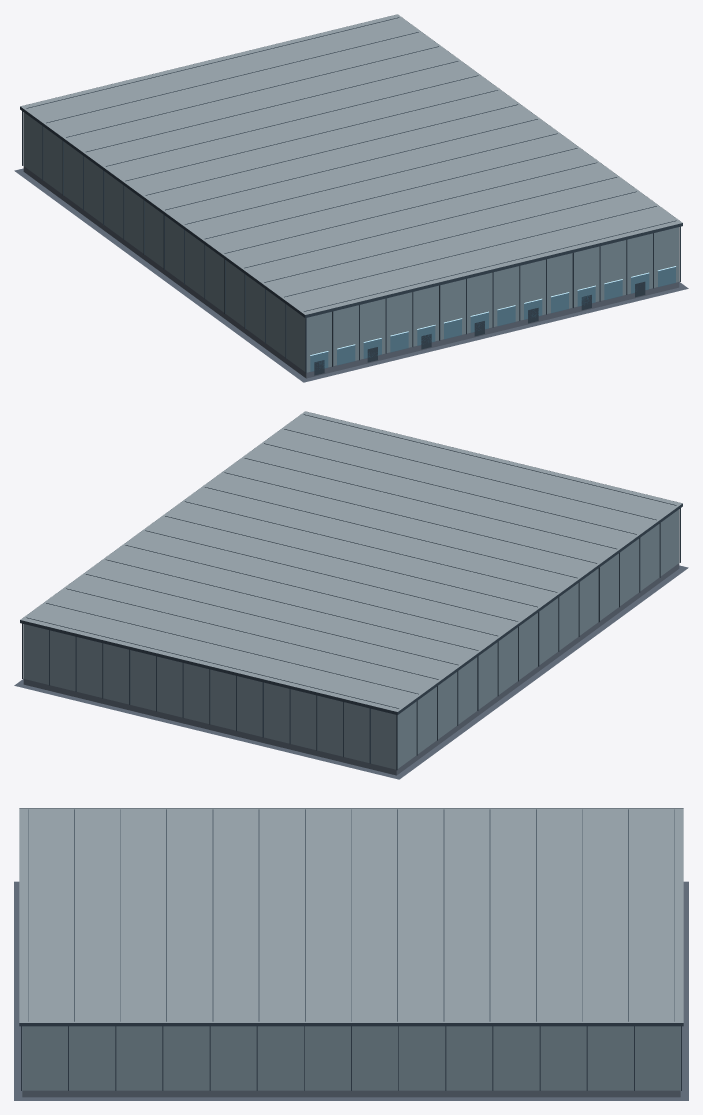
File: shell.glb
The picture shows the model from 3 angles, top to bottom: view 1: azimuth 30°, elevation 25°; view 2: azimuth 150°, elevation 25°; view 3: azimuth 270°, elevation 25°; orthographic projection. The views are drawn at different scales.
Parts seen in each view (by area): view 1: shell_roof_canopy, shell_bowl_mass_cladding, shell_roof_canopy_fascia, shell_bowl_mass_suite_glass_lobby, shell_bowl_mass_plinth, shell_field_floor_apron, shell_bowl_mass_facade_panels, shell_bowl_mass_portal_frames; view 2: shell_roof_canopy, shell_bowl_mass_cladding, shell_roof_canopy_fascia, shell_bowl_mass_plinth, shell_field_floor_apron, shell_bowl_mass_facade_panels; view 3: shell_roof_canopy, shell_bowl_mass_cladding, shell_roof_canopy_fascia, shell_field_floor_apron, shell_bowl_mass_plinth, shell_bowl_mass_facade_panels.
Part boxes in pixels (x1,y1,x2,y2): shell_roof_canopy: (20, 14, 682, 314); shell_bowl_mass_cladding: (23, 112, 679, 372); shell_roof_canopy_fascia: (20, 16, 682, 317); shell_bowl_mass_suite_glass_lobby: (310, 267, 675, 371); shell_bowl_mass_plinth: (23, 166, 679, 378); shell_field_floor_apron: (14, 168, 688, 382); shell_bowl_mass_facade_panels: (22, 111, 680, 373); shell_bowl_mass_portal_frames: (314, 281, 645, 375); shell_roof_canopy: (20, 411, 682, 711); shell_bowl_mass_cladding: (23, 509, 679, 769); shell_roof_canopy_fascia: (20, 413, 682, 714); shell_bowl_mass_plinth: (23, 563, 679, 775); shell_field_floor_apron: (14, 565, 688, 779); shell_bowl_mass_facade_panels: (22, 508, 680, 770); shell_roof_canopy: (19, 808, 683, 1022); shell_bowl_mass_cladding: (22, 1026, 680, 1090); shell_roof_canopy_fascia: (19, 808, 683, 1026); shell_field_floor_apron: (14, 881, 688, 1100); shell_bowl_mass_plinth: (22, 1090, 680, 1097); shell_bowl_mass_facade_panels: (21, 1026, 681, 1090).
Bounding box in the file's own units: 82.5 × 13.38 × 107.
